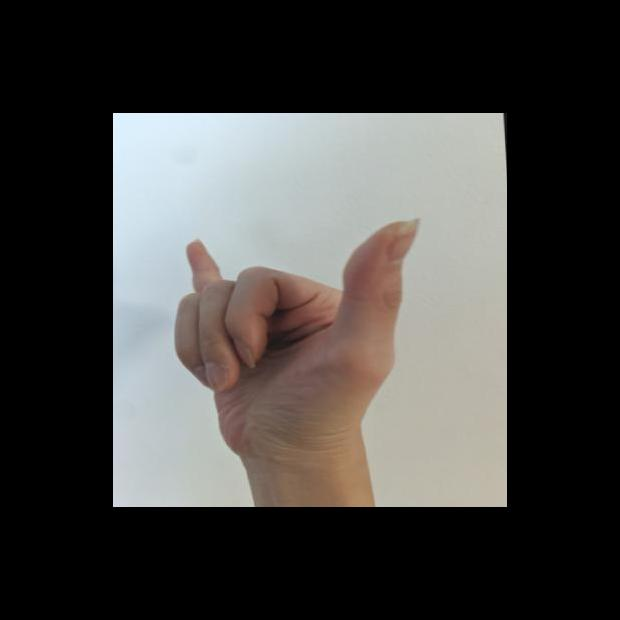X: (162, 208, 437, 467)
